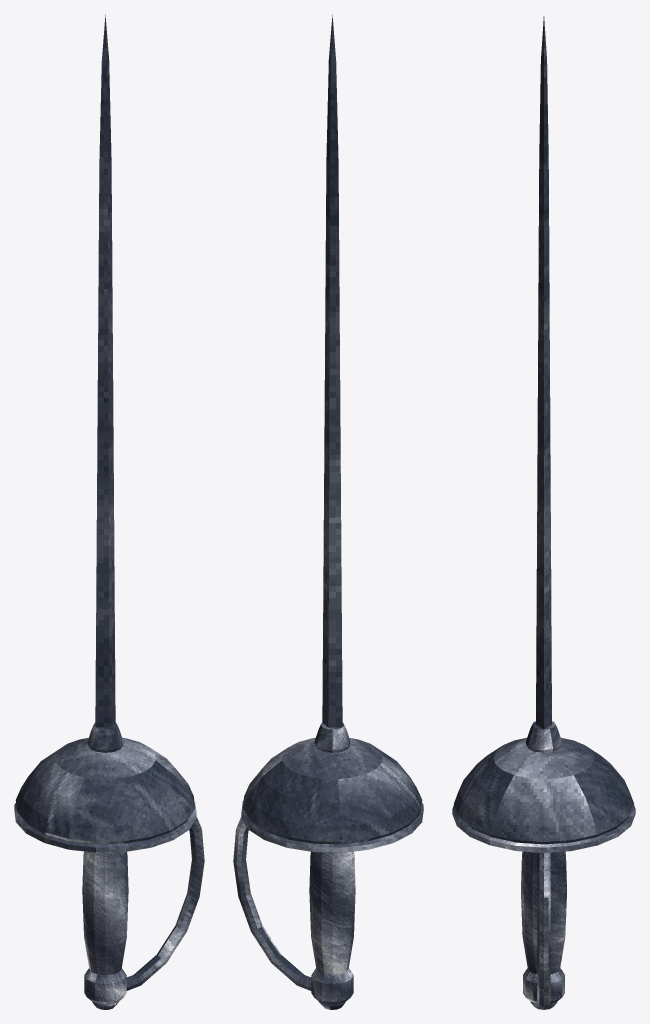
File: florete.glb
3 renders of one model, left to right at view 1: azimuth 30°, elevation 25°; view 2: azimuth 150°, elevation 25°; view 3: azimuth 270°, elevation 25°, orthographic.
Visible parts, largest first — view 1: Guarda em concha, Lâmina fina facetada, Cabo de metal, Arco de proteção, Borda da concha, Pomo, Base da lâmina; view 2: Guarda em concha, Lâmina fina facetada, Cabo de metal, Arco de proteção, Borda da concha, Pomo, Base da lâmina; view 3: Guarda em concha, Lâmina fina facetada, Cabo de metal, Arco de proteção, Borda da concha, Pomo, Base da lâmina.
Boxes of the visible parts, bbox=[...] form: Guarda em concha: bbox=[15, 737, 195, 844]; Lâmina fina facetada: bbox=[95, 14, 115, 727]; Cabo de metal: bbox=[82, 851, 128, 975]; Arco de proteção: bbox=[126, 817, 204, 990]; Borda da concha: bbox=[14, 800, 196, 852]; Pomo: bbox=[84, 968, 126, 1004]; Base da lâmina: bbox=[87, 722, 123, 752]; Guarda em concha: bbox=[242, 737, 422, 844]; Lâmina fina facetada: bbox=[322, 14, 342, 727]; Cabo de metal: bbox=[309, 851, 355, 975]; Arco de proteção: bbox=[233, 817, 311, 990]; Borda da concha: bbox=[241, 800, 423, 852]; Pomo: bbox=[311, 968, 353, 1004]; Base da lâmina: bbox=[314, 722, 350, 752]; Guarda em concha: bbox=[454, 738, 633, 844]; Lâmina fina facetada: bbox=[536, 16, 551, 729]; Cabo de metal: bbox=[521, 851, 566, 974]; Arco de proteção: bbox=[537, 852, 550, 1009]; Borda da concha: bbox=[452, 805, 635, 852]; Pomo: bbox=[523, 968, 564, 1003]; Base da lâmina: bbox=[525, 721, 562, 752].
Size of the model in its own units: 0.7284 by 3.88 by 0.65.
Materials: 1 (1 with a texture image).
